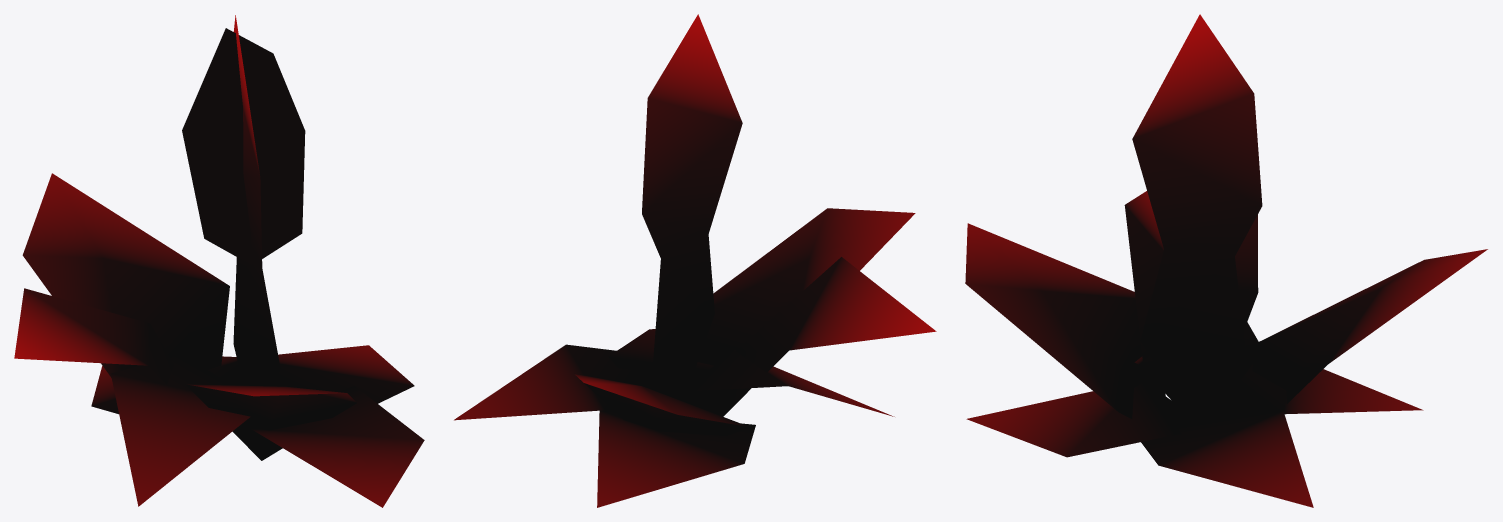
File: Astilb_1.fbx
3 views of the same model, side by side, from view 1: azimuth 30°, elevation 25°; view 2: azimuth 150°, elevation 25°; view 3: azimuth 270°, elevation 25° (orthographic). The views are drawn at different scales.
Parts seen in each view (by area): view 1: Astilb_1; view 2: Astilb_1; view 3: Astilb_1.
Boxes of the visible parts, x1,y1,x2,y2 form: Astilb_1: (14,15,424,507); Astilb_1: (454,14,936,507); Astilb_1: (965,14,1487,507).
Size of the model in its own units: 74.37 by 73.15 by 82.56.
